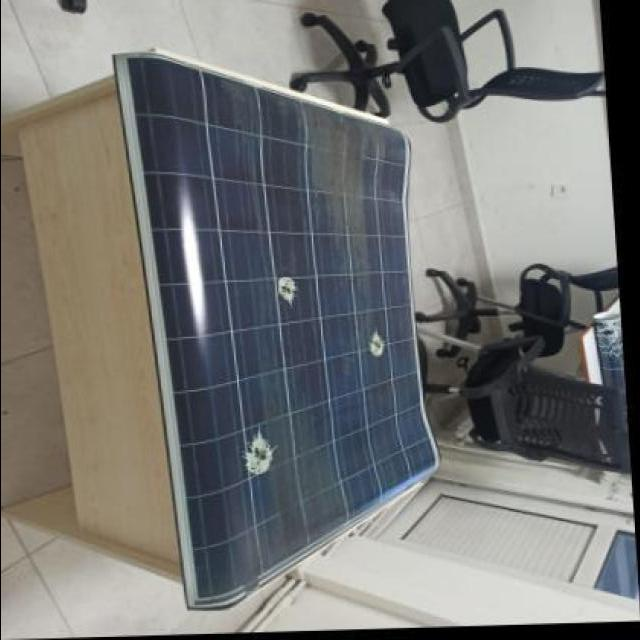soiled: (111, 48, 439, 610)
